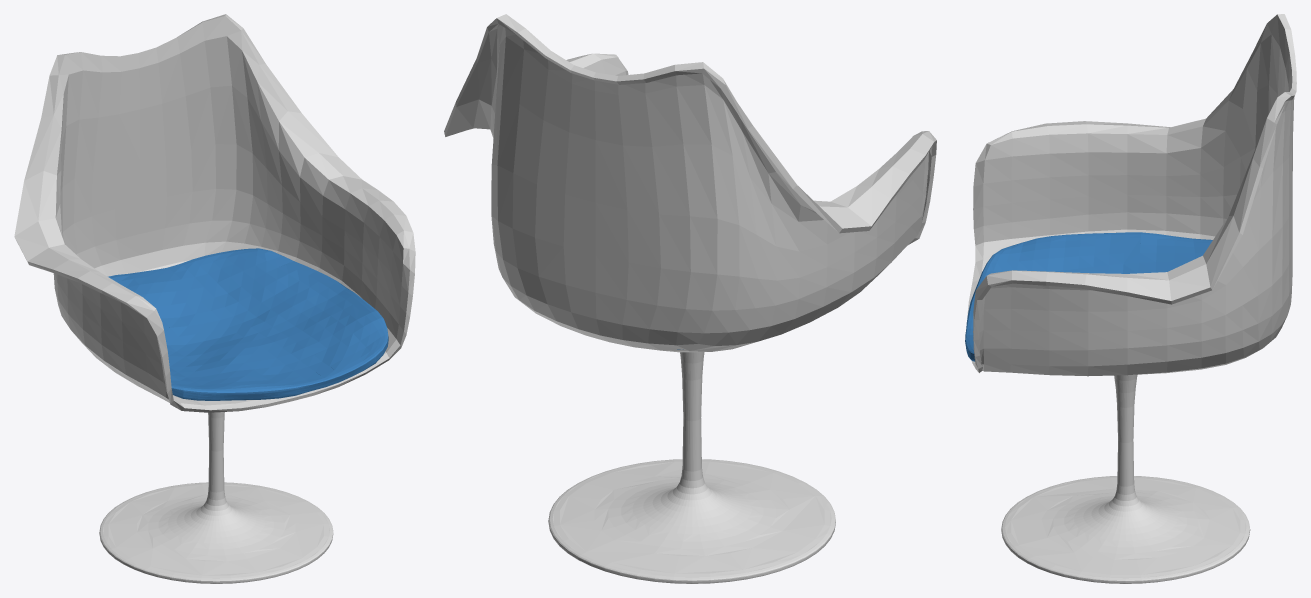
Rendered from b0-designchair.glb.
3 renders of one model, left to right at view 1: azimuth 30°, elevation 25°; view 2: azimuth 150°, elevation 25°; view 3: azimuth 270°, elevation 25°, orthographic. The views are drawn at different scales.
Parts seen in each view (by area): view 1: zidle.desig.sedak_Circle.002, zidle.design.polstare_Cube.001, zidle.desig.noh_Circle.003; view 2: zidle.desig.sedak_Circle.002, zidle.desig.noh_Circle.003; view 3: zidle.desig.sedak_Circle.002, zidle.desig.noh_Circle.003, zidle.design.polstare_Cube.001.
Part boxes in pixels (bbox=[...]): zidle.desig.sedak_Circle.002: bbox=[14, 14, 415, 412]; zidle.design.polstare_Cube.001: bbox=[108, 248, 388, 400]; zidle.desig.noh_Circle.003: bbox=[99, 412, 333, 583]; zidle.desig.sedak_Circle.002: bbox=[444, 14, 936, 352]; zidle.desig.noh_Circle.003: bbox=[548, 352, 835, 583]; zidle.desig.sedak_Circle.002: bbox=[967, 14, 1296, 376]; zidle.desig.noh_Circle.003: bbox=[1001, 374, 1250, 583]; zidle.design.polstare_Cube.001: bbox=[965, 232, 1212, 361].
Bounding box in the file's own units: 0.779 × 0.994 × 0.628.
